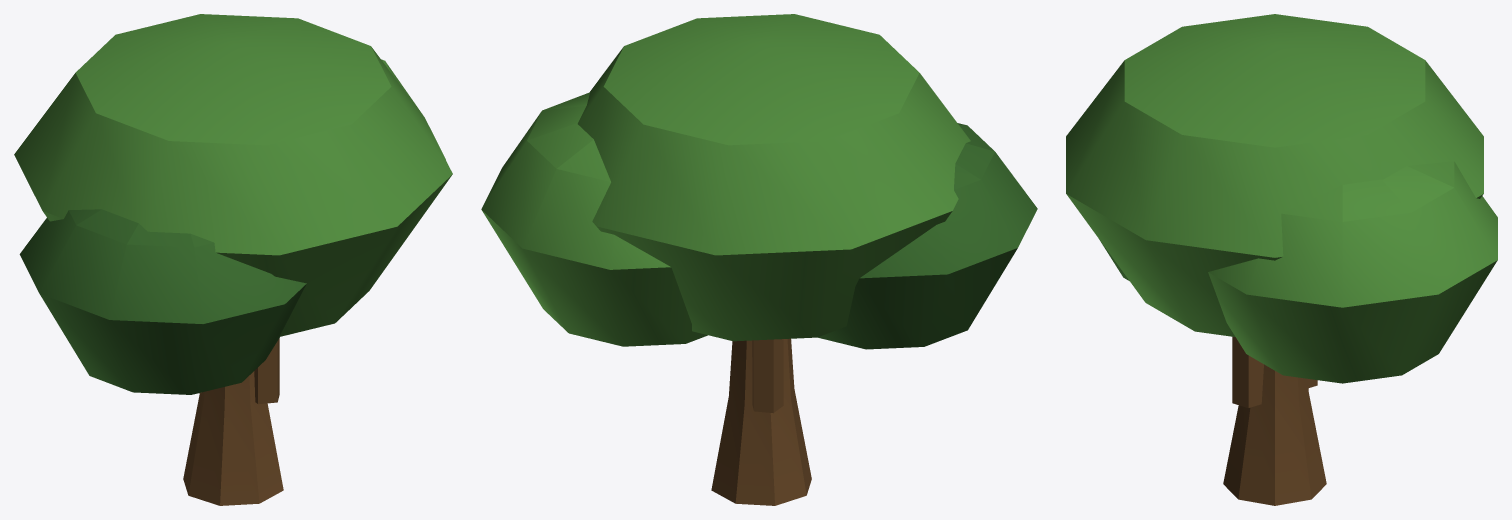
The model's file is env_puno_mangga.obj.
The picture shows the model from 3 angles, left to right: view 1: azimuth 30°, elevation 25°; view 2: azimuth 150°, elevation 25°; view 3: azimuth 270°, elevation 25°; orthographic projection.
Parts seen in each view (by area): view 1: PunoMangga; view 2: PunoMangga; view 3: PunoMangga.
Boxes of the visible parts, x1,y1,x2,y2 form: PunoMangga: [14, 14, 452, 505]; PunoMangga: [481, 14, 1037, 505]; PunoMangga: [1066, 14, 1497, 505].
Bounding box in the file's own units: 4.6 × 4.3 × 3.83.
